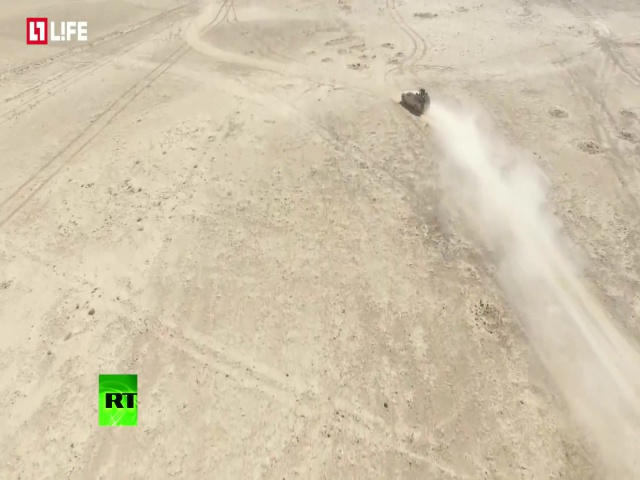vehicle: (400, 85, 431, 116)
